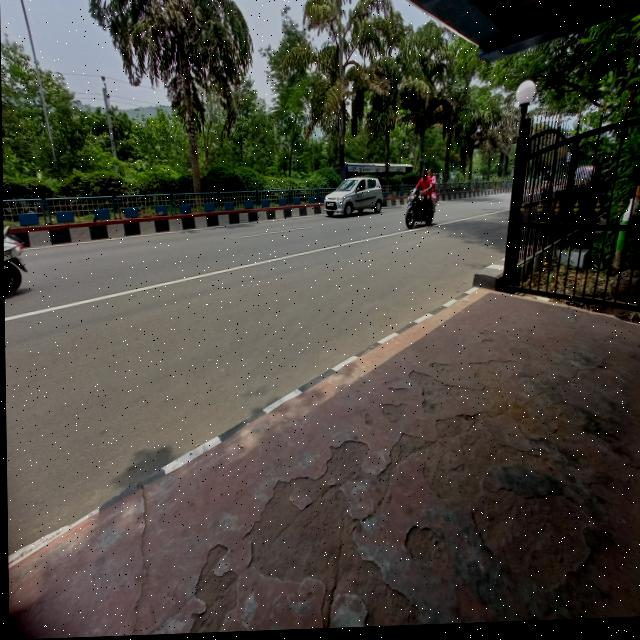bike: (402, 190, 443, 240)
car: (323, 175, 393, 232)
